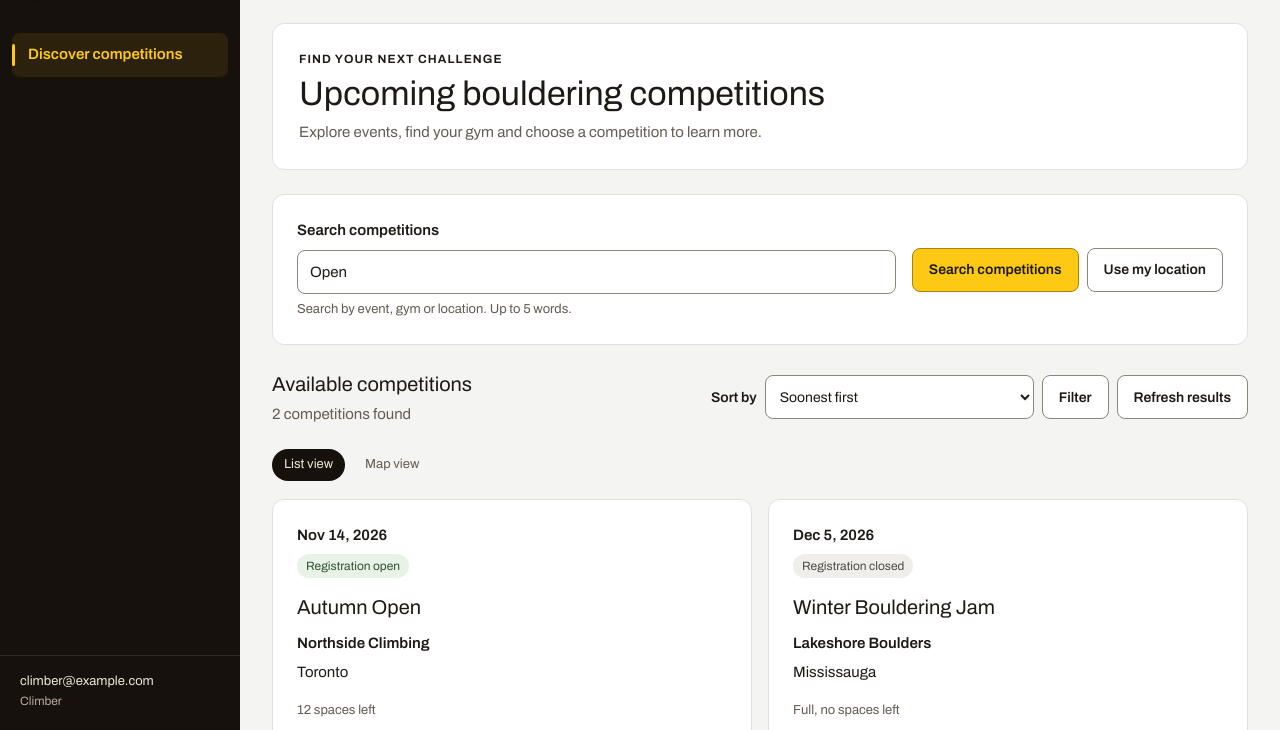
US-027: Competition Map View › opens Event Details from the selected pin, and Back to discovery returns to the map (criteria 4 to 6)
Click the link "Map view" at (392, 464), box [365,457,419,471]
(page scrolled)
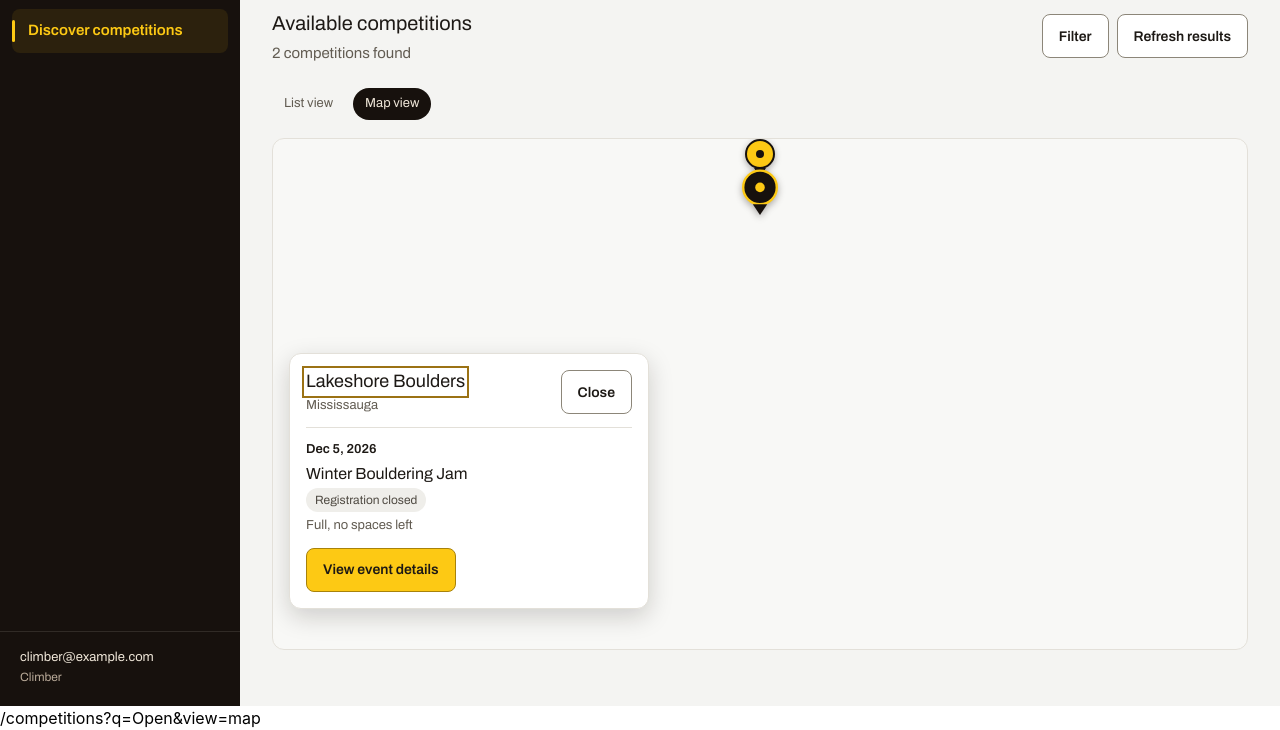
Expected: the text "Dec 5, 2026" is shown, [306,440,376,460]
Expected: the element named "Competition map" is shown, [272,138,1248,650]
Click the link with aria-label "View event details for Winter Bouldering Jam" at (381, 570), box [306,548,456,592]
(page scrolled)
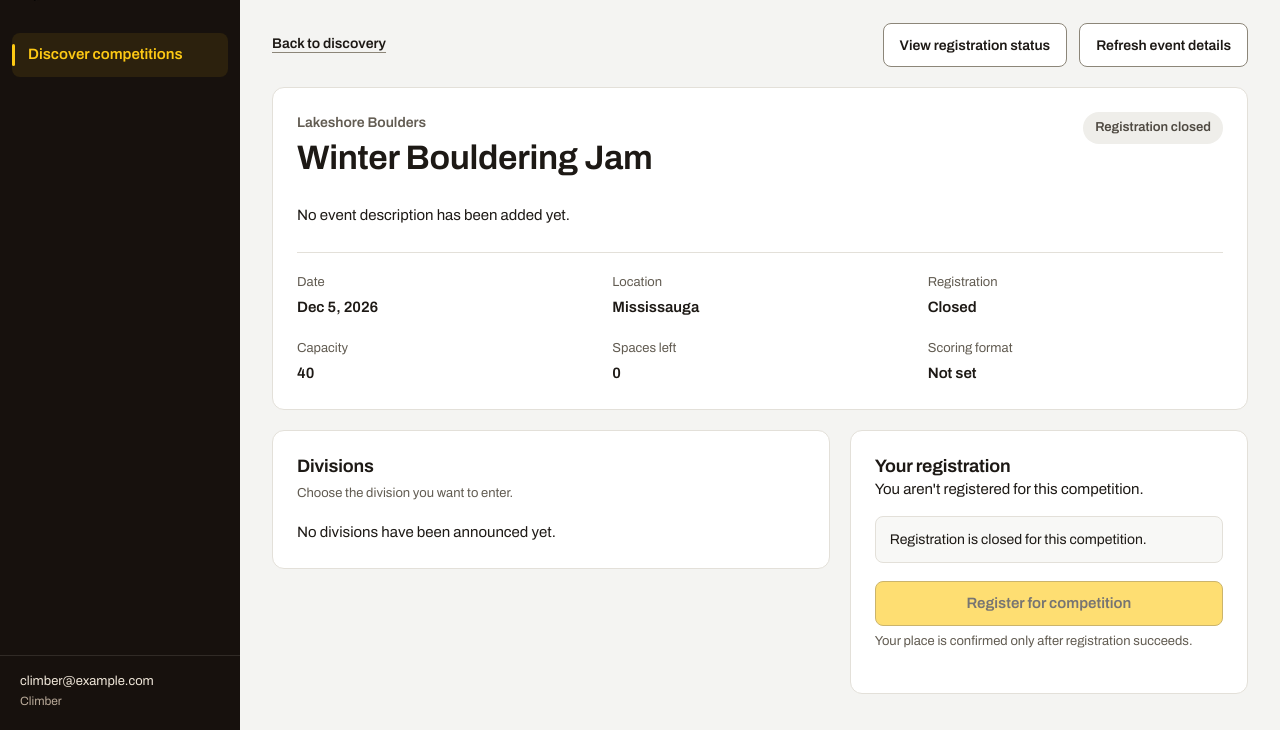
Expected: the heading "Winter Bouldering Jam" below "Lakeshore Boulders" is shown, [297,138,652,179]
Click the link "Back to discovery" at (329, 43), box [272,32,386,54]
(page scrolled)
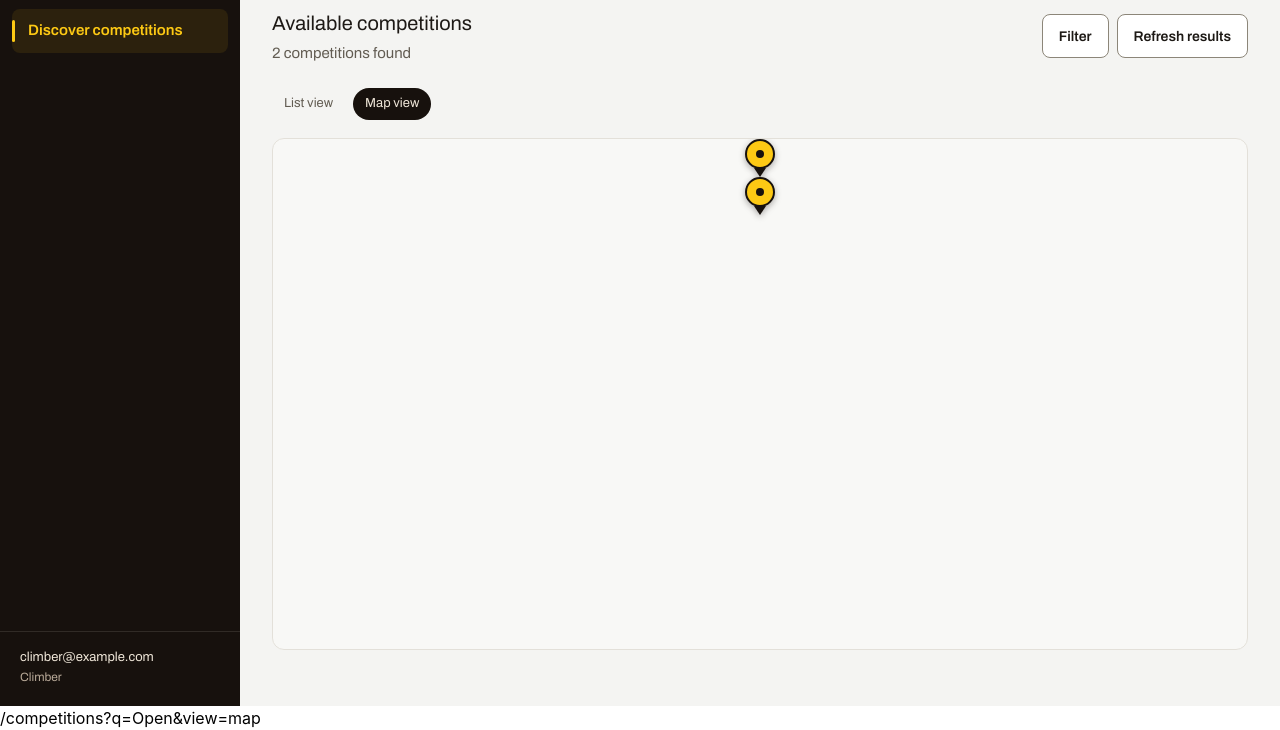
Expected: the element named "Competition map" is shown, [272,138,1248,650]
Expected: the text named "Current address" reads "/competitions?q=Open&view=map", [0,708,261,728]
